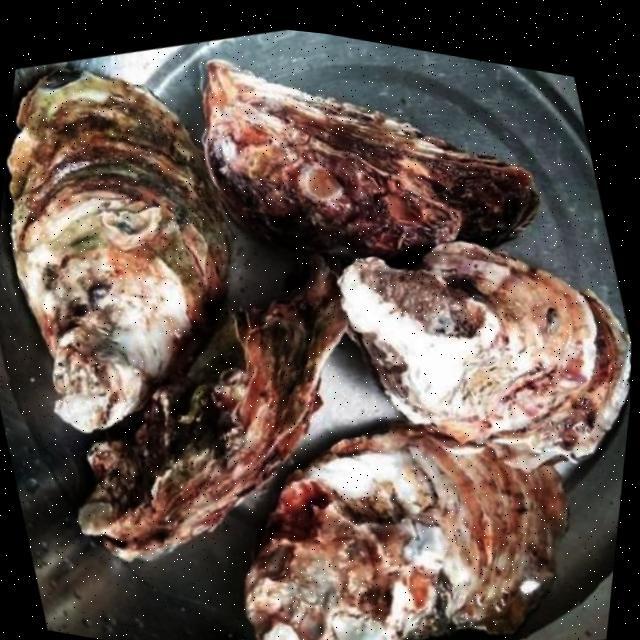Oyster-Closed: (71, 213, 353, 598)
Oyster-Indeterminate: (0, 53, 249, 458), (184, 55, 549, 306), (236, 392, 577, 640), (324, 219, 635, 486)
